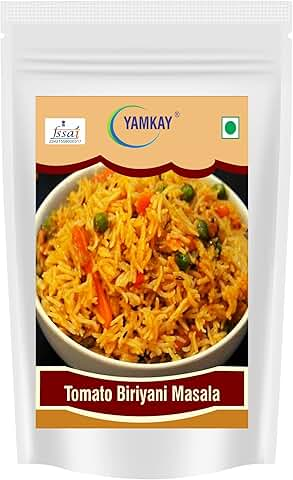Biryani: (5, 57, 263, 440)
